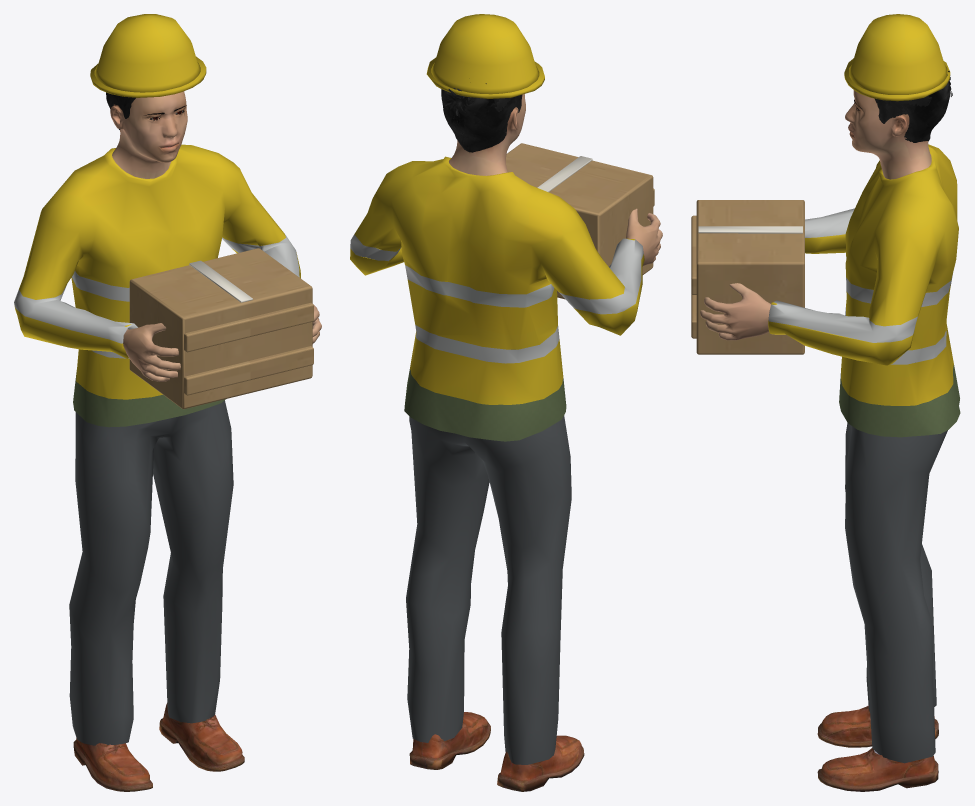
Rendered from worker-crate.glb.
The picture shows the model from 3 angles, left to right: view 1: azimuth 30°, elevation 25°; view 2: azimuth 150°, elevation 25°; view 3: azimuth 270°, elevation 25°; orthographic projection.
Visible parts, largest first — view 1: male_casualsuit02, Carried crate | connected timber batten, Sam | anatomical body, shoes01, Parcel paper seam; view 2: male_casualsuit02, Carried crate | connected timber batten, shoes01, short01, Sam | anatomical body, Parcel paper seam; view 3: male_casualsuit02, Carried crate | connected timber batten, Sam | anatomical body, shoes01, short01, Parcel paper seam.
Boxes of the visible parts, x1,y1,x2,y2 form: male_casualsuit02: (14,14,300,745); Carried crate | connected timber batten: (129,248,313,409); Sam | anatomical body: (110,91,321,381); shoes01: (73,703,244,791); Parcel paper seam: (189,260,252,302); male_casualsuit02: (350,14,644,764); Carried crate | connected timber batten: (506,143,654,299); shoes01: (409,712,584,791); short01: (441,83,522,152); Sam | anatomical body: (449,94,662,265); Parcel paper seam: (537,156,592,192); male_casualsuit02: (768,14,960,763); Carried crate | connected timber batten: (691,200,804,354); Sam | anatomical body: (700,90,931,340); shoes01: (817,705,938,791); short01: (874,71,952,142); Parcel paper seam: (698,226,802,233).
Size of the model in its own units: 0.7277 by 1.88 by 0.6169.
14 materials, 14 textured.
